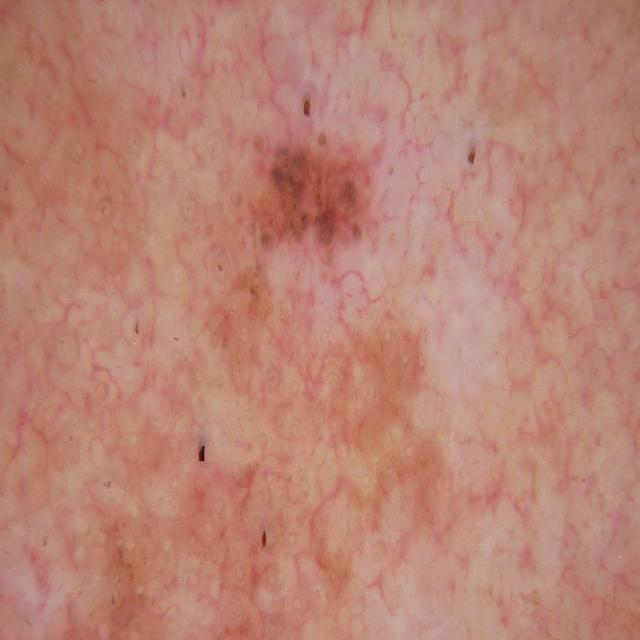Melanoma: (0, 24, 607, 640)
